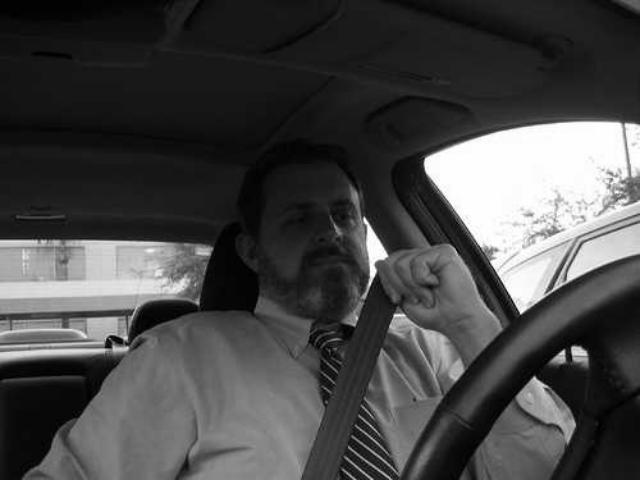Seatbelt: (298, 268, 400, 480)
